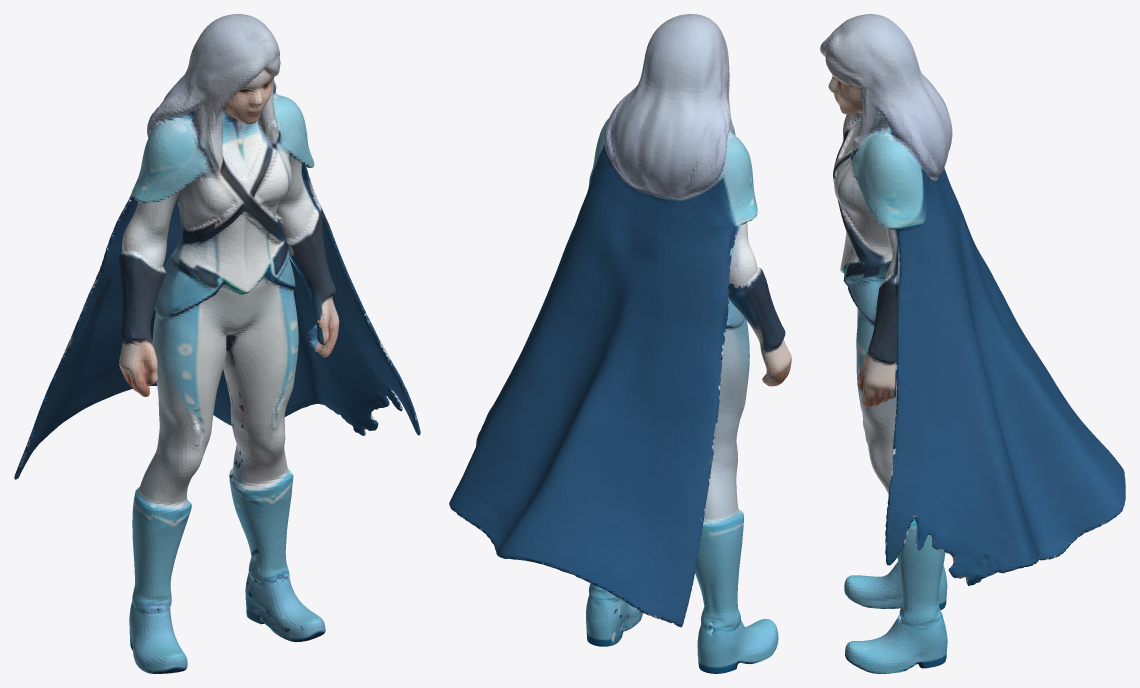
The model's file is lyra.glb.
The picture shows the model from 3 angles, left to right: view 1: azimuth 30°, elevation 25°; view 2: azimuth 150°, elevation 25°; view 3: azimuth 270°, elevation 25°; orthographic projection. The views are drawn at different scales.
Visible parts, largest first — view 1: tmp9dcew8sn.ply; view 2: tmp9dcew8sn.ply; view 3: tmp9dcew8sn.ply.
Boxes of the visible parts, bbox=[...] form: tmp9dcew8sn.ply: bbox=[14, 14, 420, 673]; tmp9dcew8sn.ply: bbox=[449, 14, 791, 673]; tmp9dcew8sn.ply: bbox=[820, 14, 1125, 673].
Size of the model in its own units: 0.9883 by 1.99 by 0.8932.
Materials: 1 (1 with a texture image).
